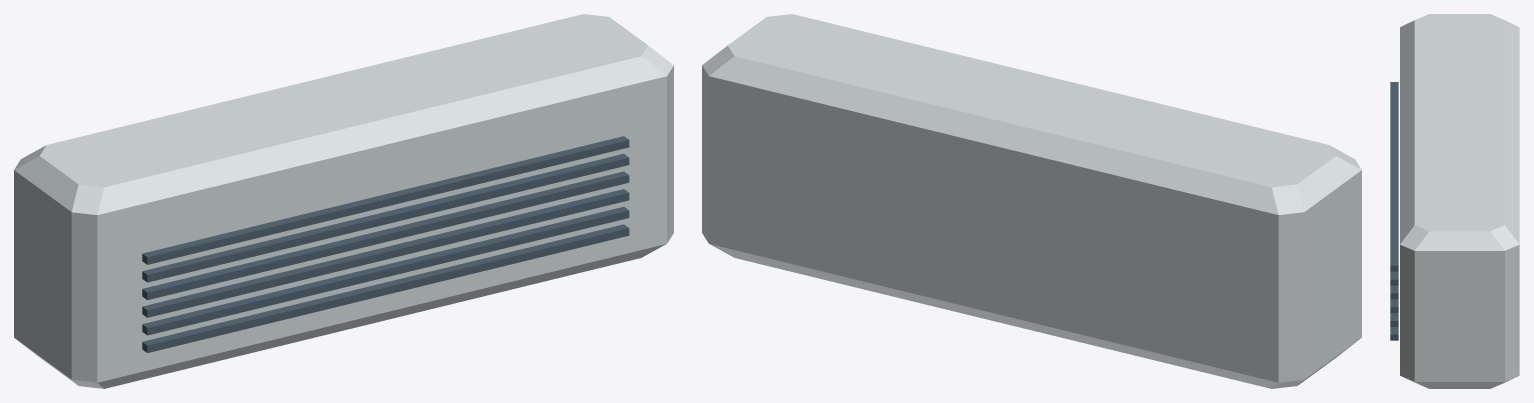
Rendered from air_conditioner.glb.
3 views of the same model, side by side, from view 1: azimuth 30°, elevation 25°; view 2: azimuth 150°, elevation 25°; view 3: azimuth 270°, elevation 25° (orthographic). The views are drawn at different scales.
Visible parts, largest first — view 1: _MeshInstance3D_746, _MeshInstance3D_751, _MeshInstance3D_749, _MeshInstance3D_747, _MeshInstance3D_748, _MeshInstance3D_750, _MeshInstance3D_752; view 2: _MeshInstance3D_746; view 3: _MeshInstance3D_746, _MeshInstance3D_752, _MeshInstance3D_750, _MeshInstance3D_751.
Part boxes in pixels (bbox=[...]): _MeshInstance3D_746: bbox=[14, 14, 673, 388]; _MeshInstance3D_751: bbox=[142, 153, 629, 282]; _MeshInstance3D_749: bbox=[142, 189, 629, 317]; _MeshInstance3D_747: bbox=[142, 224, 629, 352]; _MeshInstance3D_748: bbox=[142, 206, 629, 335]; _MeshInstance3D_750: bbox=[142, 171, 629, 300]; _MeshInstance3D_752: bbox=[142, 136, 629, 264]; _MeshInstance3D_746: bbox=[702, 14, 1361, 388]; _MeshInstance3D_746: bbox=[1400, 14, 1519, 388]; _MeshInstance3D_752: bbox=[1390, 82, 1398, 271]; _MeshInstance3D_750: bbox=[1390, 285, 1398, 299]; _MeshInstance3D_751: bbox=[1390, 271, 1398, 285].
Size of the model in its own units: 1 by 0.32 by 0.2375.
